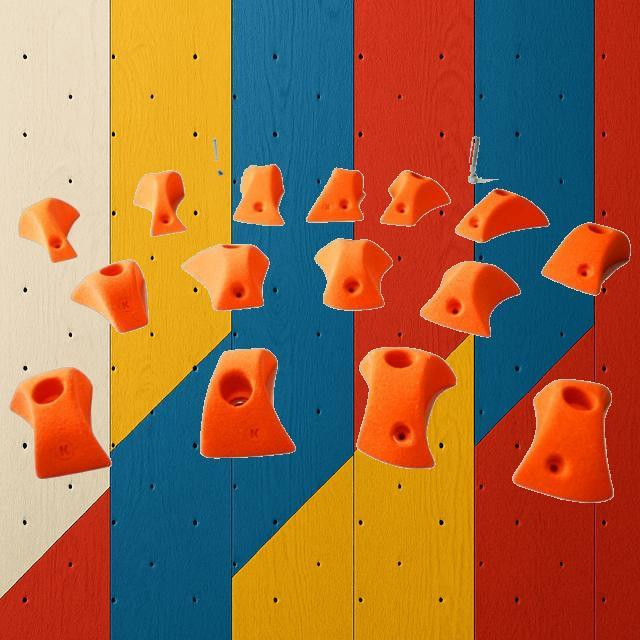Pinch: (511, 378, 613, 502), (356, 346, 456, 468), (8, 365, 112, 479), (199, 347, 295, 457), (420, 259, 520, 337), (542, 221, 630, 295), (180, 242, 268, 310), (69, 258, 149, 332), (314, 238, 392, 310), (455, 187, 549, 243), (16, 195, 80, 262), (379, 170, 449, 227), (132, 168, 188, 236), (306, 166, 366, 222), (233, 162, 285, 225)
